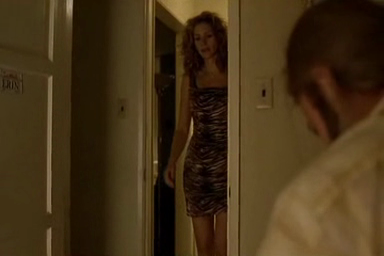face: (194, 27, 216, 59)
mls: (1, 1, 384, 256)
person: (164, 11, 228, 256)
